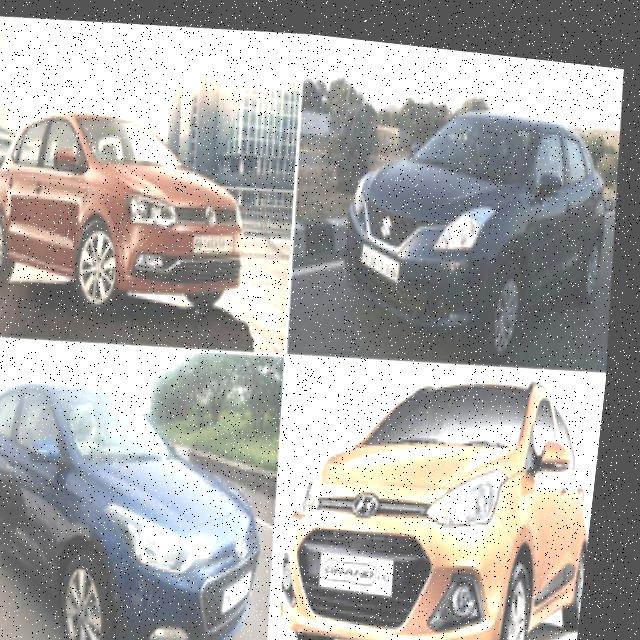license_plate: (319, 526, 414, 598), (227, 546, 274, 626), (192, 223, 260, 266), (363, 230, 409, 275)
